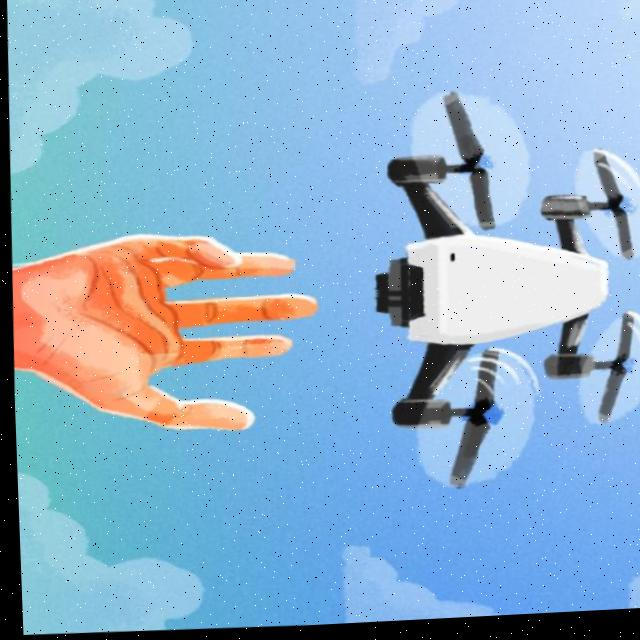drones: (327, 82, 640, 494)
